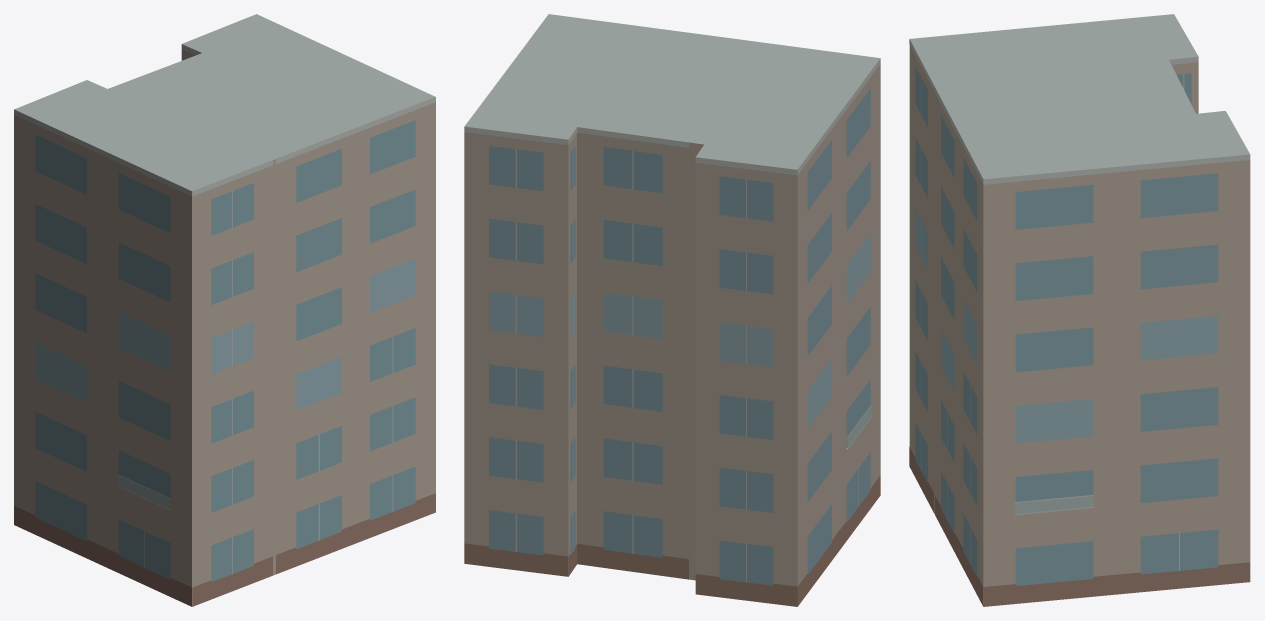
Rendered from survey-upis-32960423.glb.
3 renders of one model, left to right at view 1: azimuth 30°, elevation 25°; view 2: azimuth 150°, elevation 25°; view 3: azimuth 270°, elevation 25°, orthographic. The views are drawn at different scales.
Parts seen in each view (by area): view 1: survey-upis-32960423.tmp; view 2: survey-upis-32960423.tmp; view 3: survey-upis-32960423.tmp.
Boxes of the visible parts, x1,y1,x2,y2 form: survey-upis-32960423.tmp: [14, 14, 435, 606]; survey-upis-32960423.tmp: [464, 14, 880, 606]; survey-upis-32960423.tmp: [909, 14, 1250, 606].
Size of the model in its own units: 15.89 by 19.15 by 13.84.
